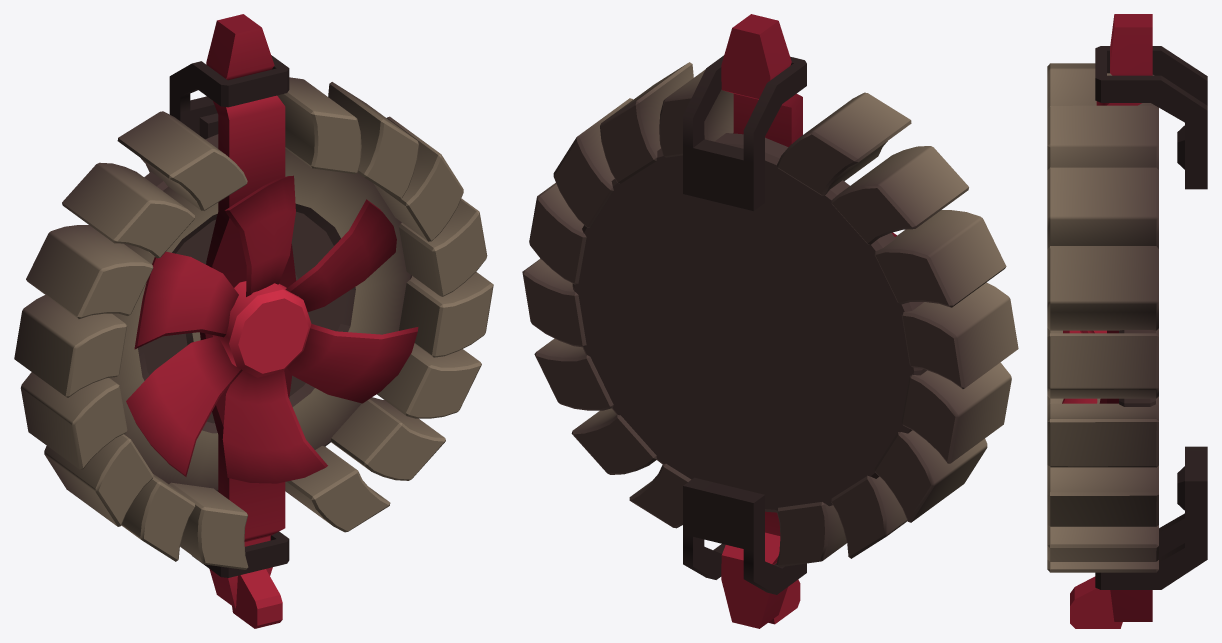
The model's file is Cooling_systems_lvl_01_V03.fbx.
3 views of the same model, side by side, from view 1: azimuth 30°, elevation 25°; view 2: azimuth 150°, elevation 25°; view 3: azimuth 270°, elevation 25° (orthographic). The views are drawn at different scales.
Visible parts, largest first — view 1: Body_Cooling, Fan_Cooling; view 2: Body_Cooling; view 3: Body_Cooling, Fan_Cooling.
Boxes of the visible parts, x1,y1,x2,y2 form: Body_Cooling: (14,14,493,628); Fan_Cooling: (126,175,418,483); Body_Cooling: (522,14,1018,628); Body_Cooling: (1047,14,1207,628); Fan_Cooling: (1062,330,1106,403).
Bounding box in the file's own units: 37.75 × 48.98 × 11.8.
